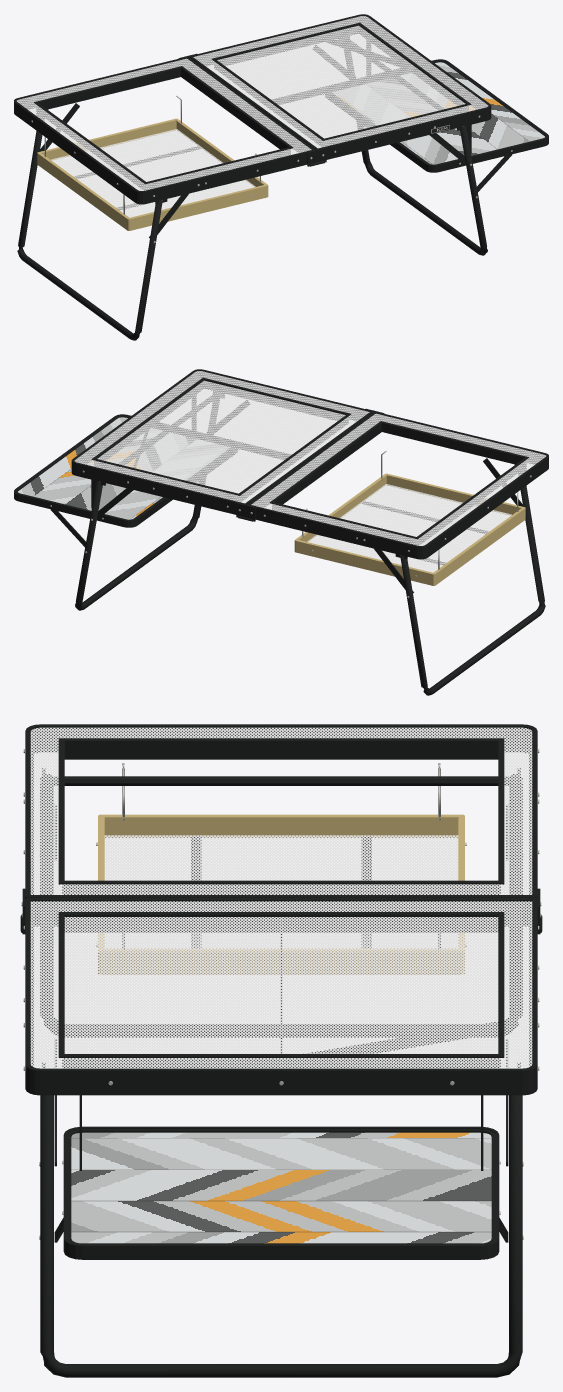
The model's file is kazmi-union-iron-mesh-low-bbq-table.glb.
The picture shows the model from 3 angles, top to bottom: view 1: azimuth 30°, elevation 25°; view 2: azimuth 150°, elevation 25°; view 3: azimuth 270°, elevation 25°; orthographic projection. The views are drawn at different scales.
Bounding box in the file's own units: 1.15 × 0.3996 × 0.6111.
Materials: 9 (2 with a texture image).
